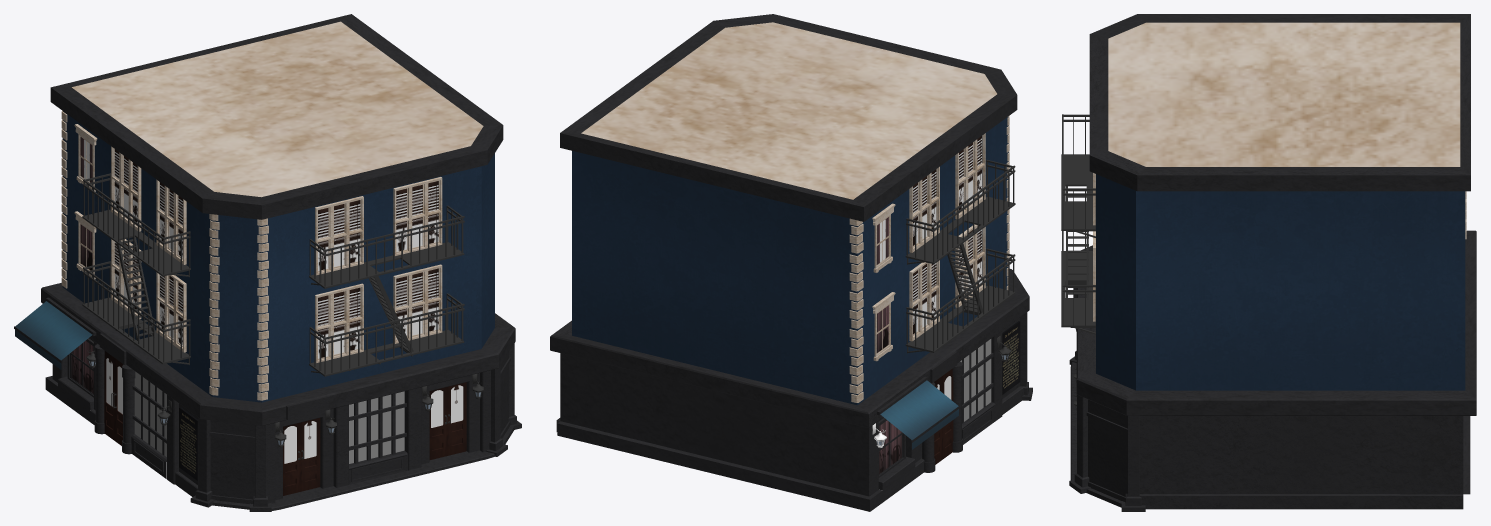
File: building_03.FBX
The picture shows the model from 3 angles, left to right: view 1: azimuth 30°, elevation 25°; view 2: azimuth 150°, elevation 25°; view 3: azimuth 270°, elevation 25°; orthographic projection. The views are drawn at different scales.
Parts seen in each view (by area): view 1: building3, iron2, window2, window3, window1, iron; view 2: building3, iron2, window2, window3, window1; view 3: building3, iron2.
Part boxes in pixels (bbox=[...]): building3: bbox=[14, 14, 521, 511]; iron2: bbox=[82, 173, 464, 376]; window2: bbox=[71, 137, 438, 463]; window3: bbox=[114, 181, 463, 427]; window1: bbox=[134, 371, 404, 463]; iron: bbox=[86, 343, 483, 459]; building3: bbox=[550, 14, 1032, 511]; iron2: bbox=[905, 160, 1015, 353]; window2: bbox=[876, 169, 981, 473]; window3: bbox=[913, 136, 981, 334]; window1: bbox=[960, 339, 991, 421]; building3: bbox=[1069, 14, 1476, 511]; iron2: bbox=[1061, 114, 1095, 334].
Bounding box in the file's own units: 1172 × 950 × 1083.
